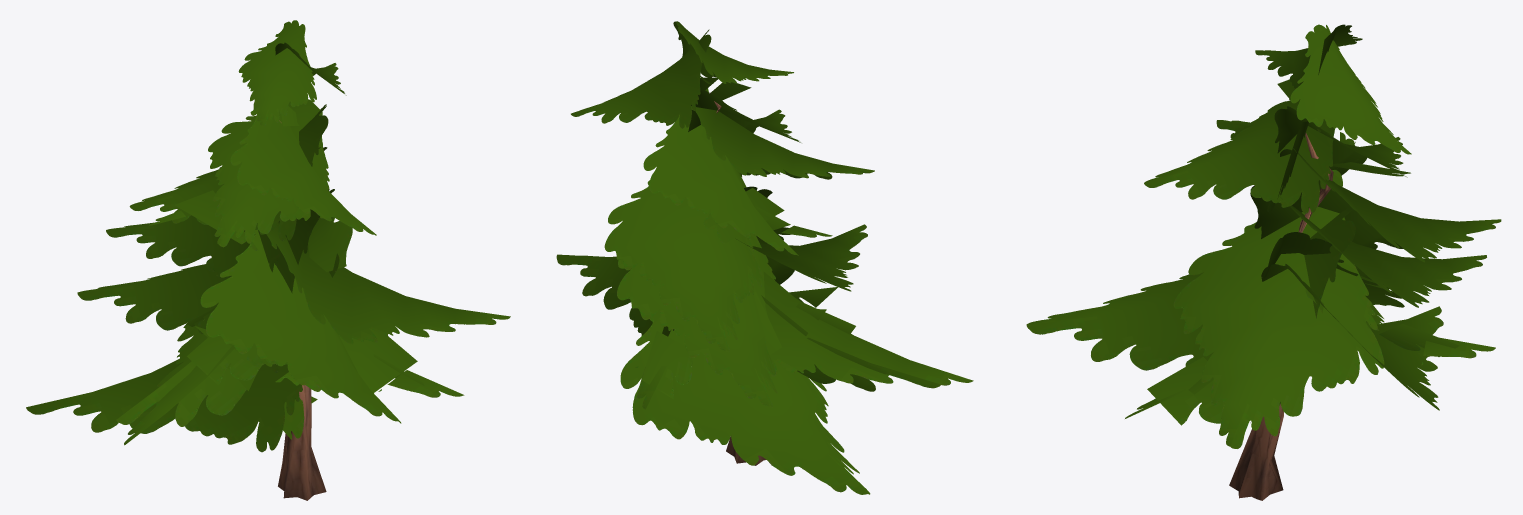
The model's file is pine_free_model_b_lo.glb.
3 renders of one model, left to right at view 1: azimuth 30°, elevation 25°; view 2: azimuth 150°, elevation 25°; view 3: azimuth 270°, elevation 25°, orthographic. The views are drawn at different scales.
Visible parts, largest first — view 1: Pine_5; view 2: Pine_5; view 3: Pine_5.
Part boxes in pixels (left/top/right/bottom): Pine_5: left=26, top=20, right=510, bottom=500; Pine_5: left=556, top=21, right=973, bottom=494; Pine_5: left=1026, top=24, right=1501, bottom=500.
Size of the model in its own units: 8.87 by 9.07 by 8.33.
2 materials, 2 textured.
